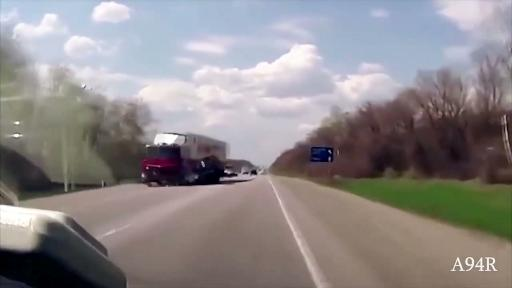Truck: (152, 131, 234, 190)
